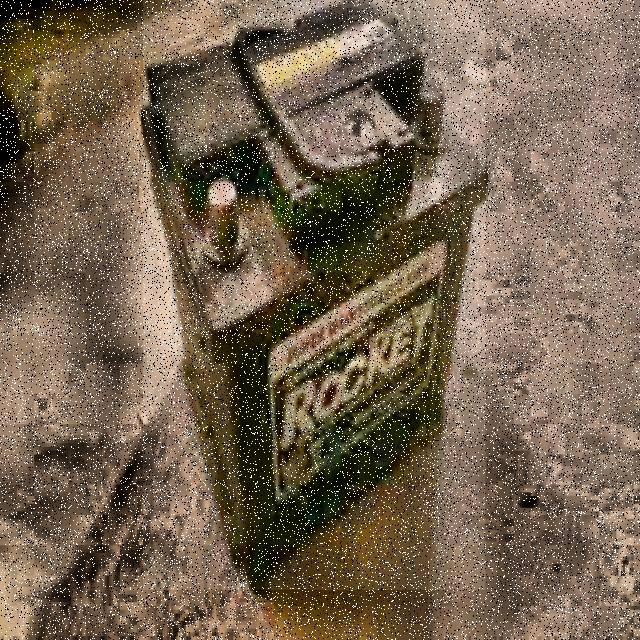B3: (128, 13, 494, 559)
